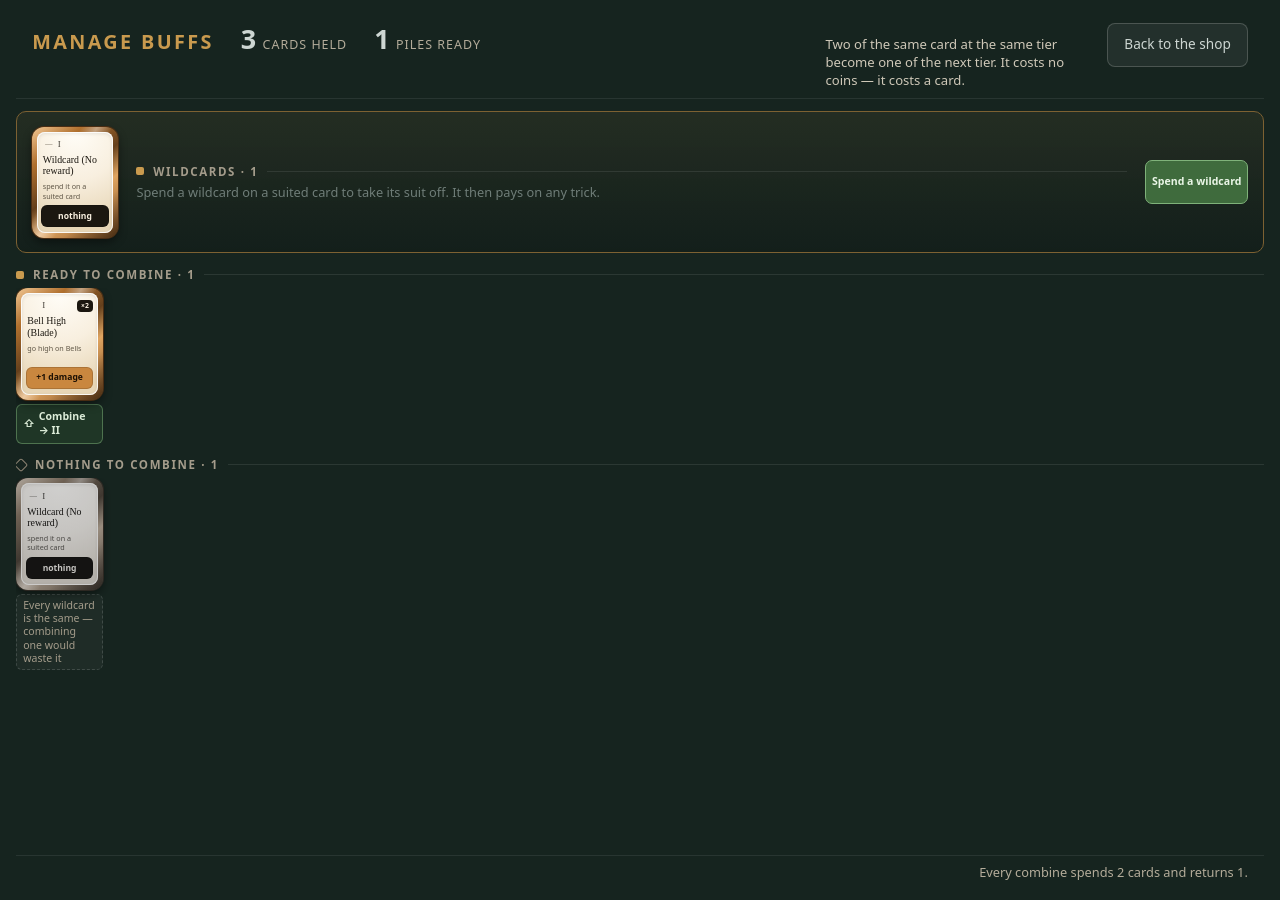
the wildcard band (DLR-162) › arms the target mode from the band, replacing the combine bands
Expected: the element named "Ready to combine" is shown, [16,288,96,444]
Click the button "Spend a wildcard" at (1197, 182), box [1145,160,1248,204]
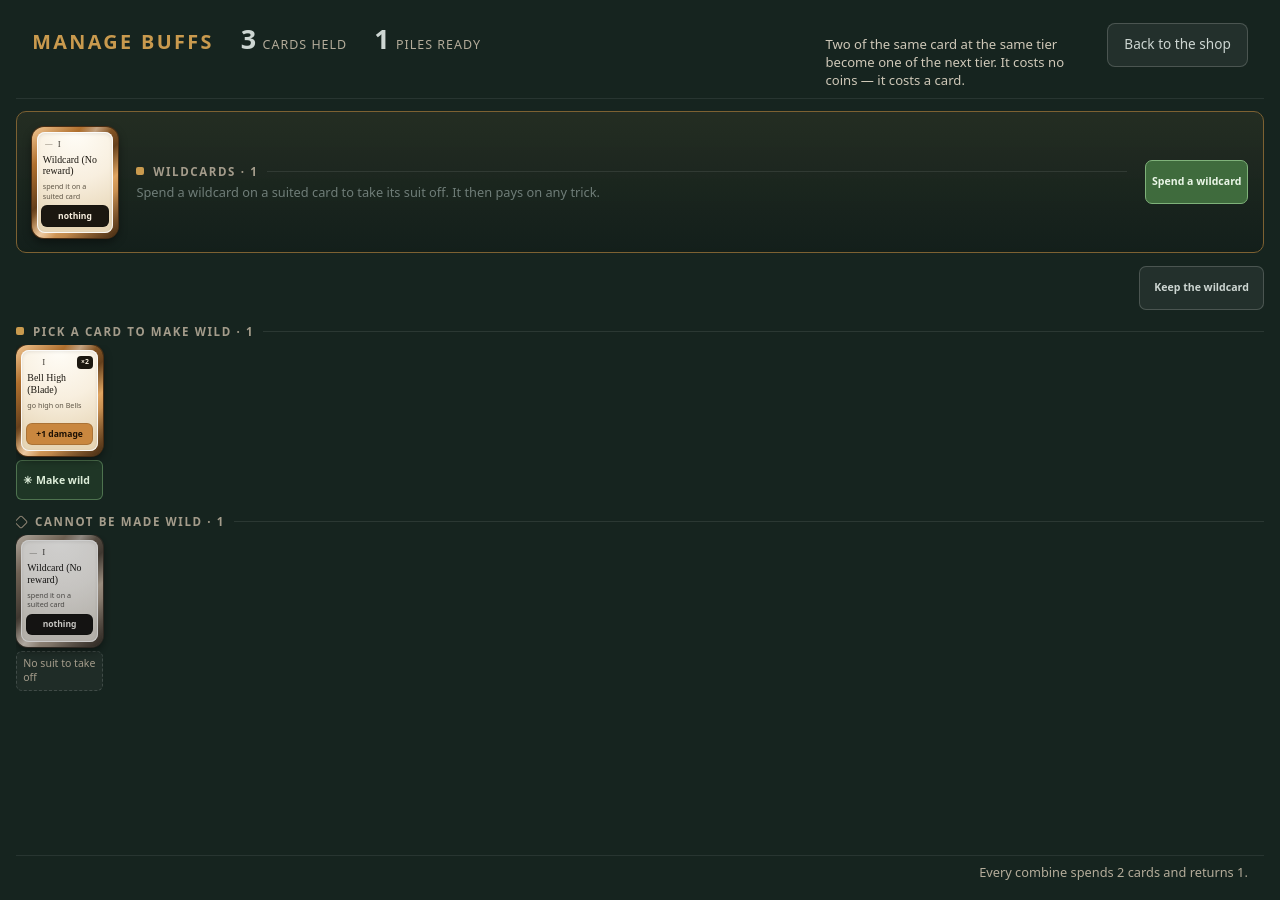
Now the element named "Pick a card to make wild" is shown, box [16,345,96,500]
Now the heading "Ready to combine" is gone
